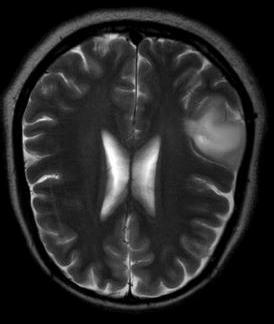Normal_Brain: (1, 1, 274, 324)
